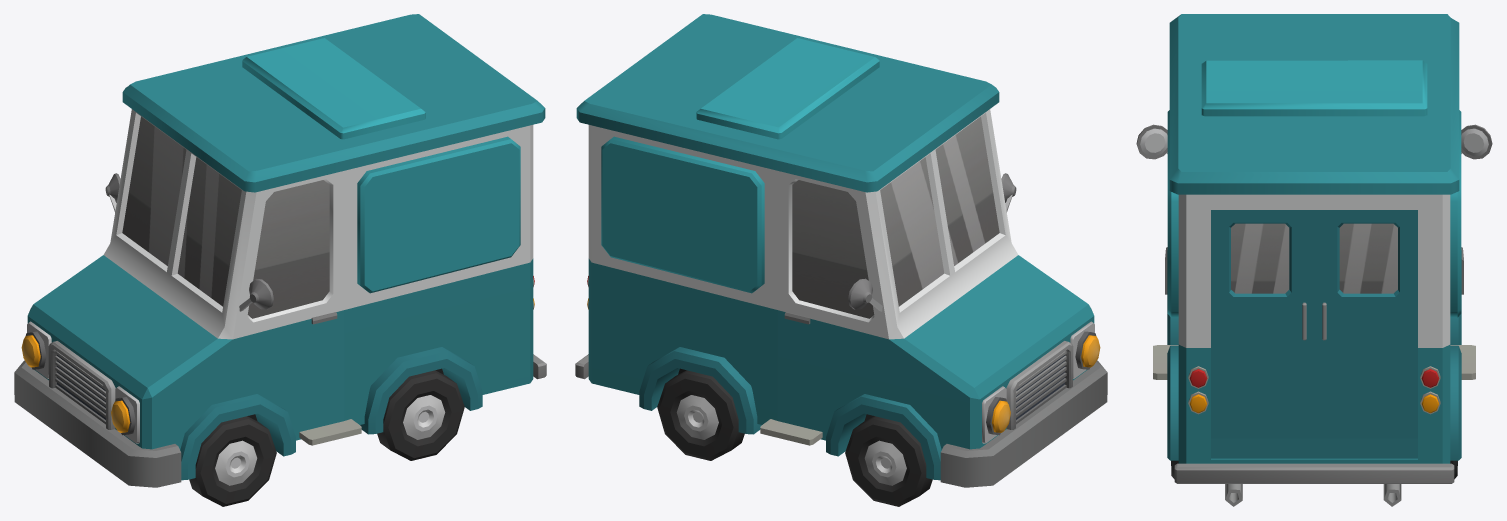
The model's file is Car_14_F.gltf.
3 views of the same model, side by side, from view 1: azimuth 30°, elevation 25°; view 2: azimuth 150°, elevation 25°; view 3: azimuth 270°, elevation 25° (orthographic). The views are drawn at different scales.
Visible parts, largest first — view 1: Car_14_F, RL, FL; view 2: Car_14_F, RR, FR; view 3: Car_14_F.
Boxes of the visible parts, bbox=[...] form: Car_14_F: bbox=[14, 14, 546, 487]; RL: bbox=[377, 370, 464, 460]; FL: bbox=[189, 416, 276, 506]; Car_14_F: bbox=[575, 14, 1107, 487]; RR: bbox=[657, 370, 744, 460]; FR: bbox=[845, 416, 932, 506]; Car_14_F: bbox=[1136, 14, 1492, 506].
Size of the model in its own units: 2.75 by 2.1 by 1.8.
4 materials, 4 textured.
